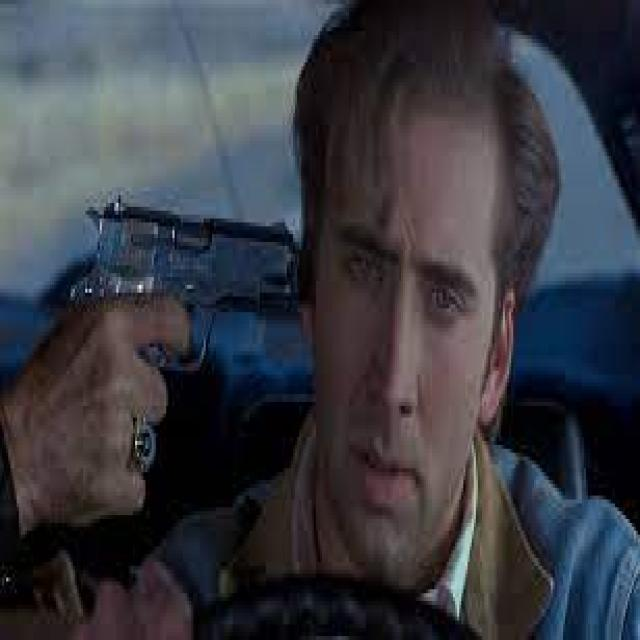weapons: (52, 161, 306, 470)
